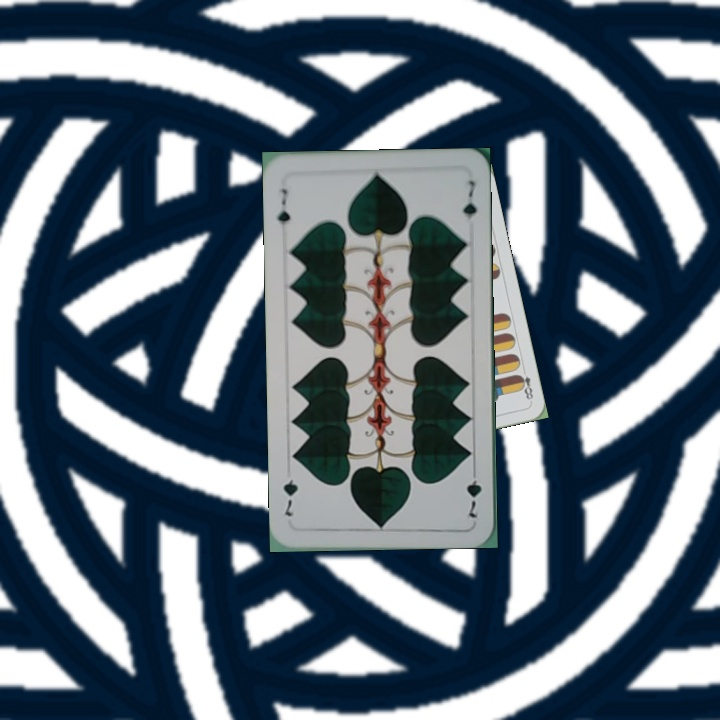E8: (514, 365, 535, 405)
G7: (462, 463, 484, 522), (273, 184, 293, 227)
